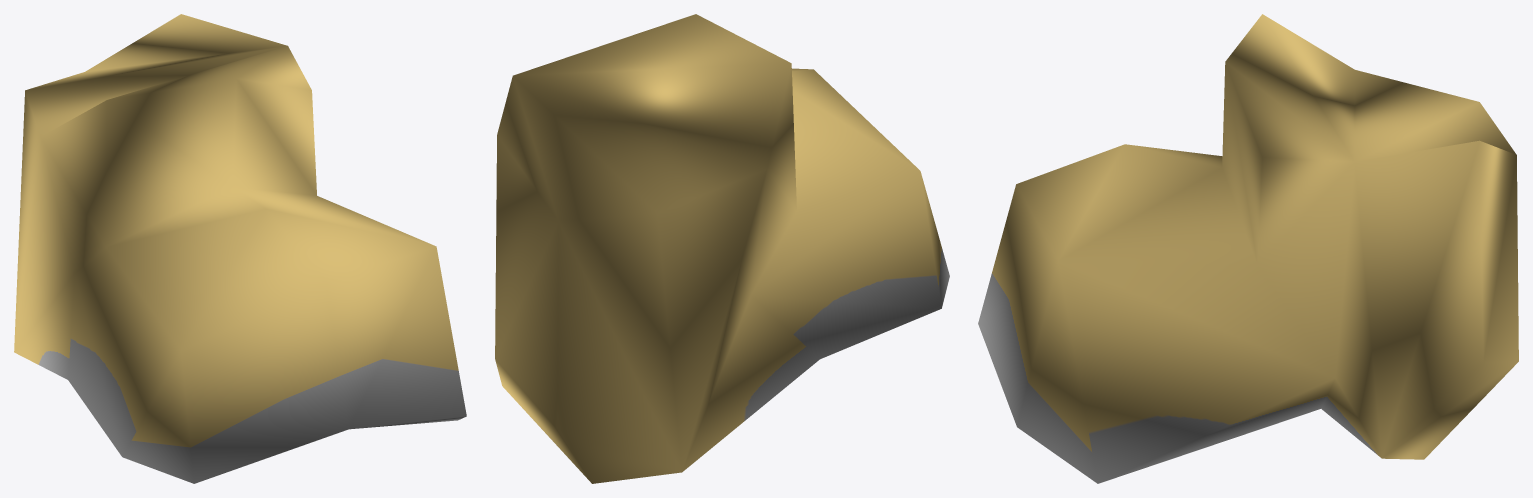
Rendered from Boot.fbx.
3 renders of one model, left to right at view 1: azimuth 30°, elevation 25°; view 2: azimuth 150°, elevation 25°; view 3: azimuth 270°, elevation 25°, orthographic. The views are drawn at different scales.
Visible parts, largest first — view 1: Uggs; view 2: Uggs; view 3: Uggs.
Part boxes in pixels (x1,y1,x2,y2): Uggs: [14, 14, 466, 483]; Uggs: [495, 14, 949, 483]; Uggs: [978, 14, 1518, 483].
Size of the model in its own units: 0.3961 by 0.4361 by 0.5399.
